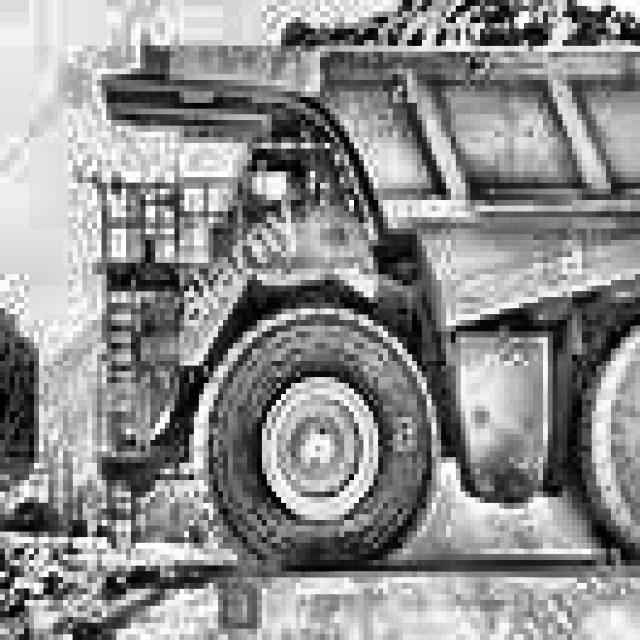dump_truck: (92, 0, 640, 571)
